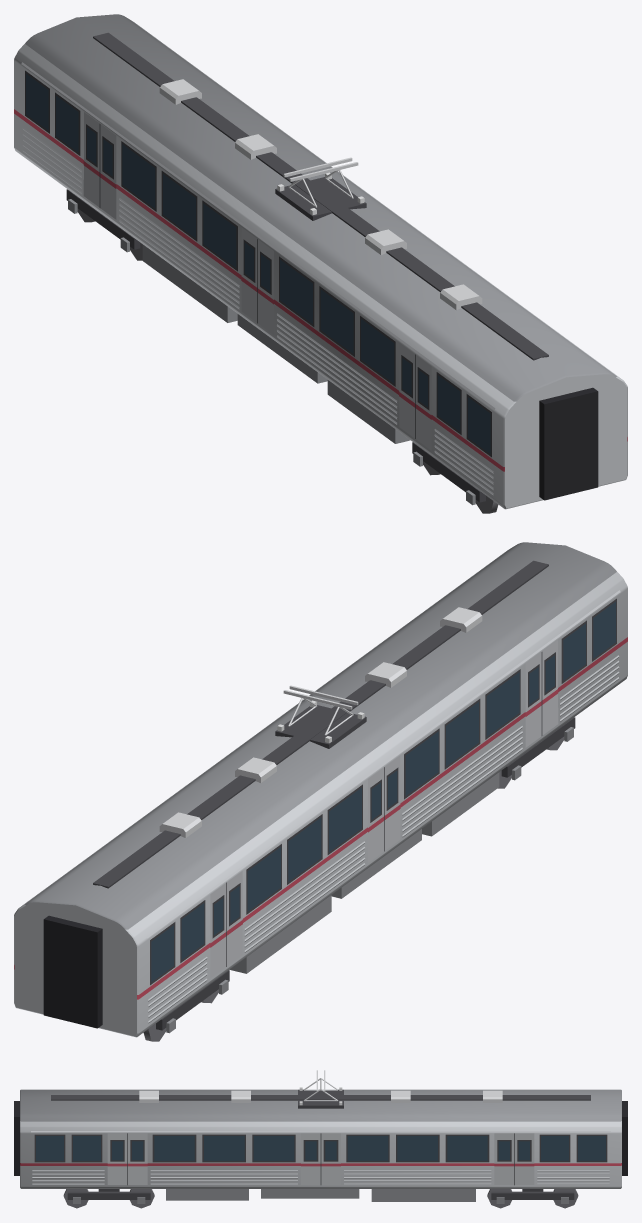
The picture shows the model from 3 angles, top to bottom: view 1: azimuth 30°, elevation 25°; view 2: azimuth 150°, elevation 25°; view 3: azimuth 270°, elevation 25°; orthographic projection. The views are drawn at different scales.
Parts seen in each view (by area): view 1: 389; view 2: 389; view 3: 389.
Boxes of the visible parts, <box> form: 389: <box>14,14,627,513</box>; 389: <box>14,542,627,1041</box>; 389: <box>14,1070,627,1208</box>.
Bounding box in the file's own units: 2.93 × 4.2 × 20.
